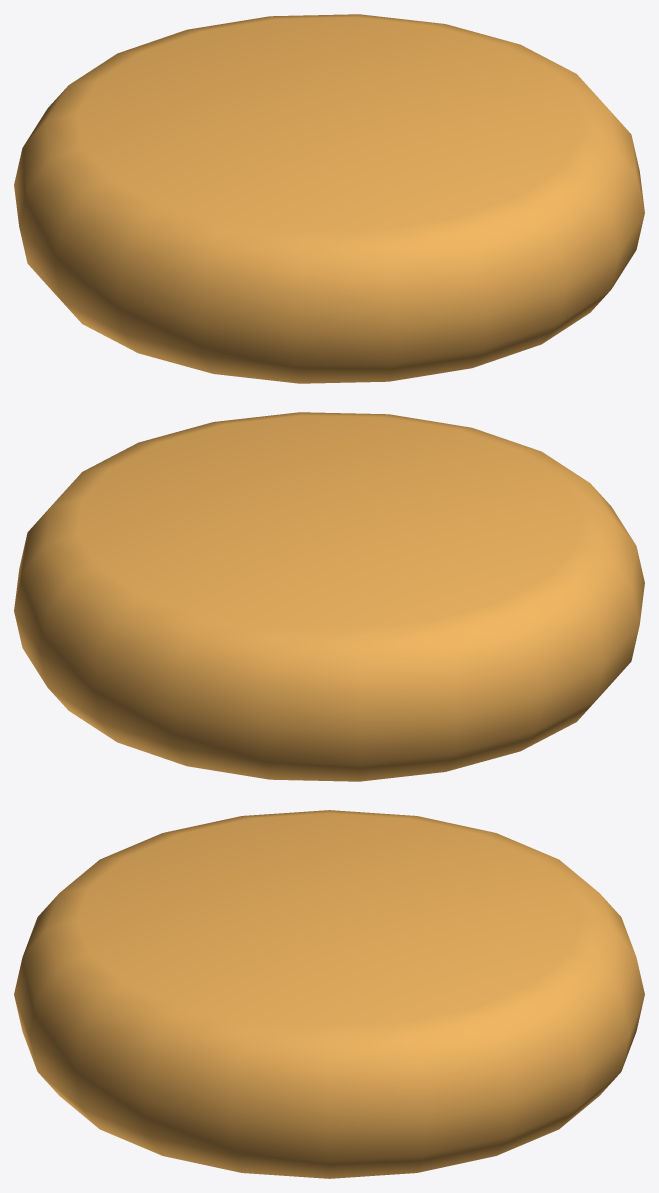
Rendered from FlatCircle_01.fbx.
3 renders of one model, top to bottom at view 1: azimuth 30°, elevation 25°; view 2: azimuth 150°, elevation 25°; view 3: azimuth 270°, elevation 25°, orthographic.
Visible parts, largest first — view 1: FlatCircle_01; view 2: FlatCircle_01; view 3: FlatCircle_01.
Boxes of the visible parts, bbox=[...] form: FlatCircle_01: bbox=[14, 14, 644, 383]; FlatCircle_01: bbox=[14, 412, 644, 781]; FlatCircle_01: bbox=[14, 810, 644, 1178].
Size of the model in its own units: 375 by 97.5 by 375.
